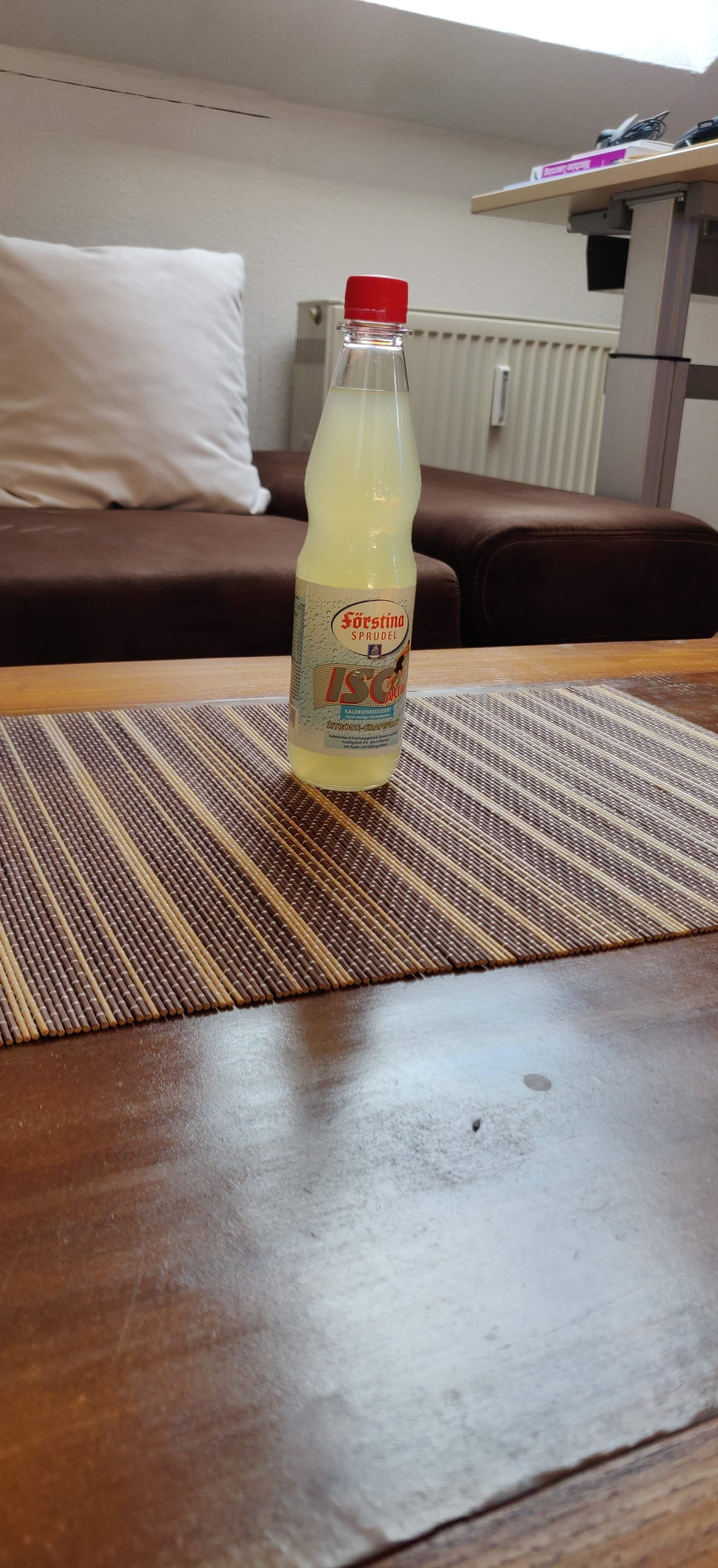bottle-plastic: (285, 271, 428, 796)
